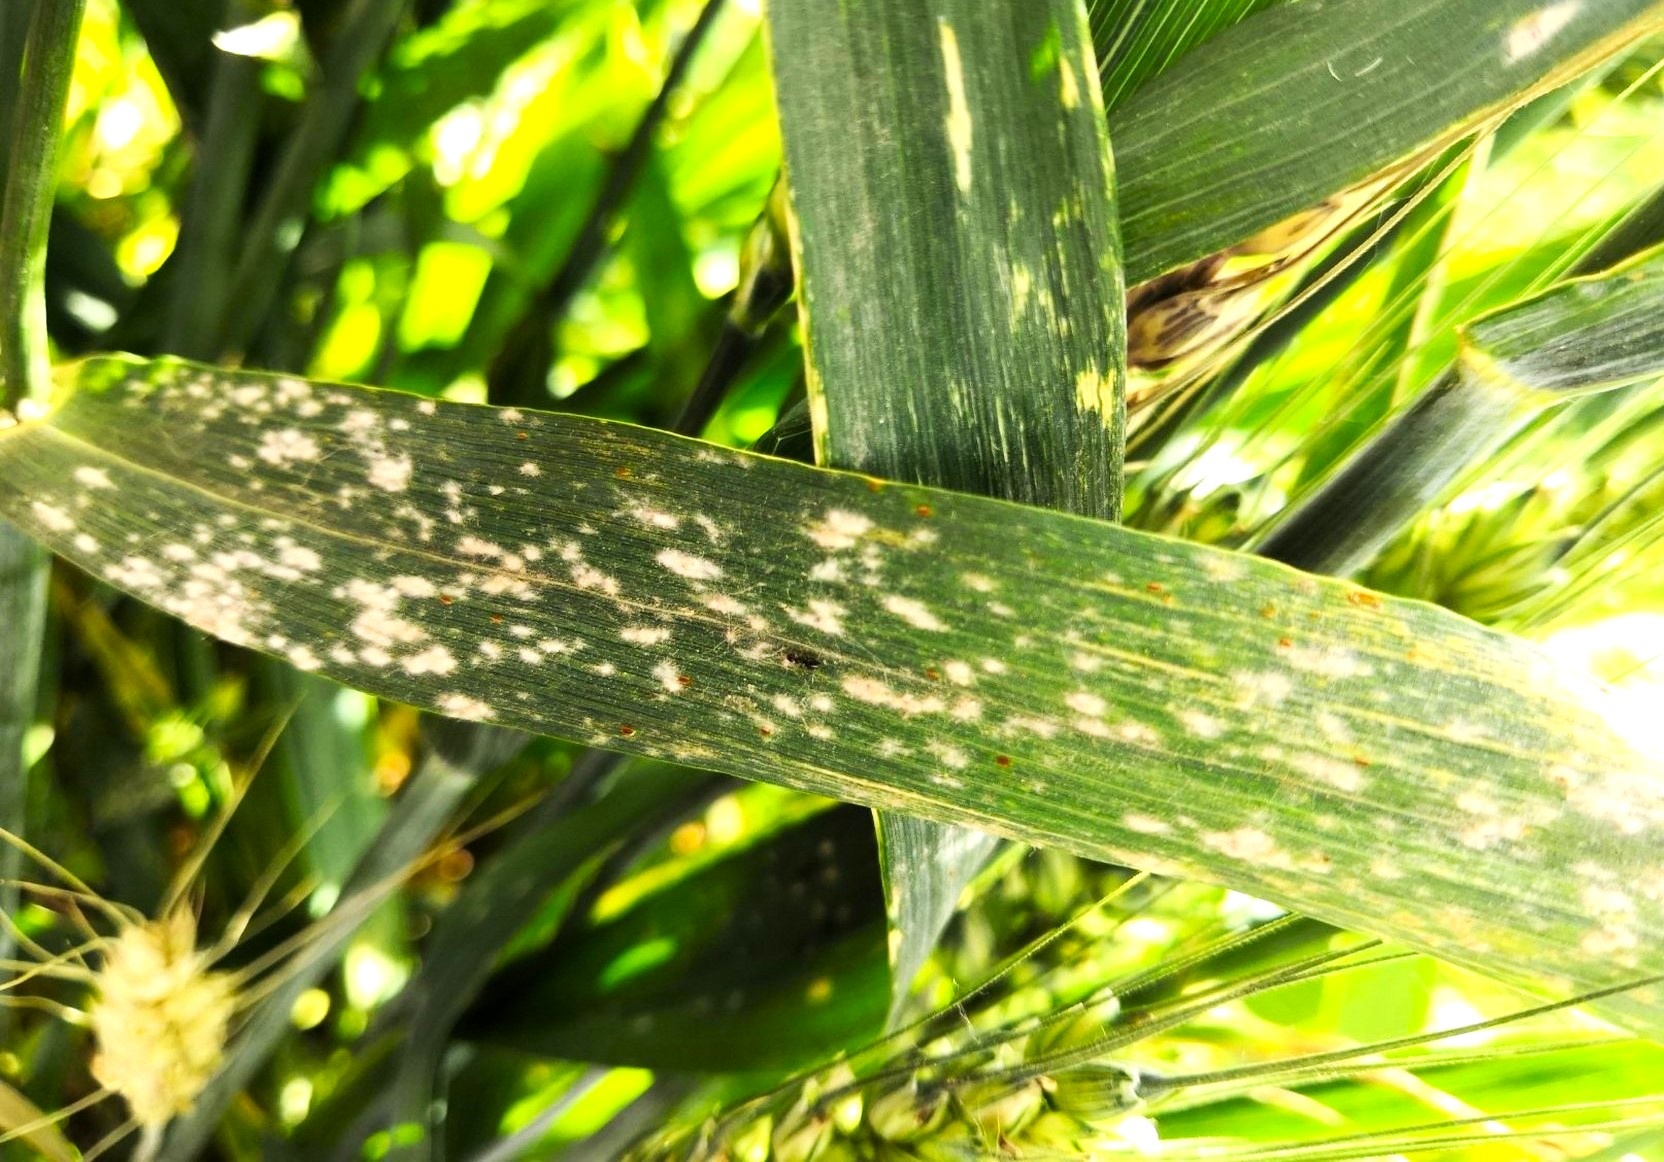Powdery Mildew: (62, 386, 1128, 832)
